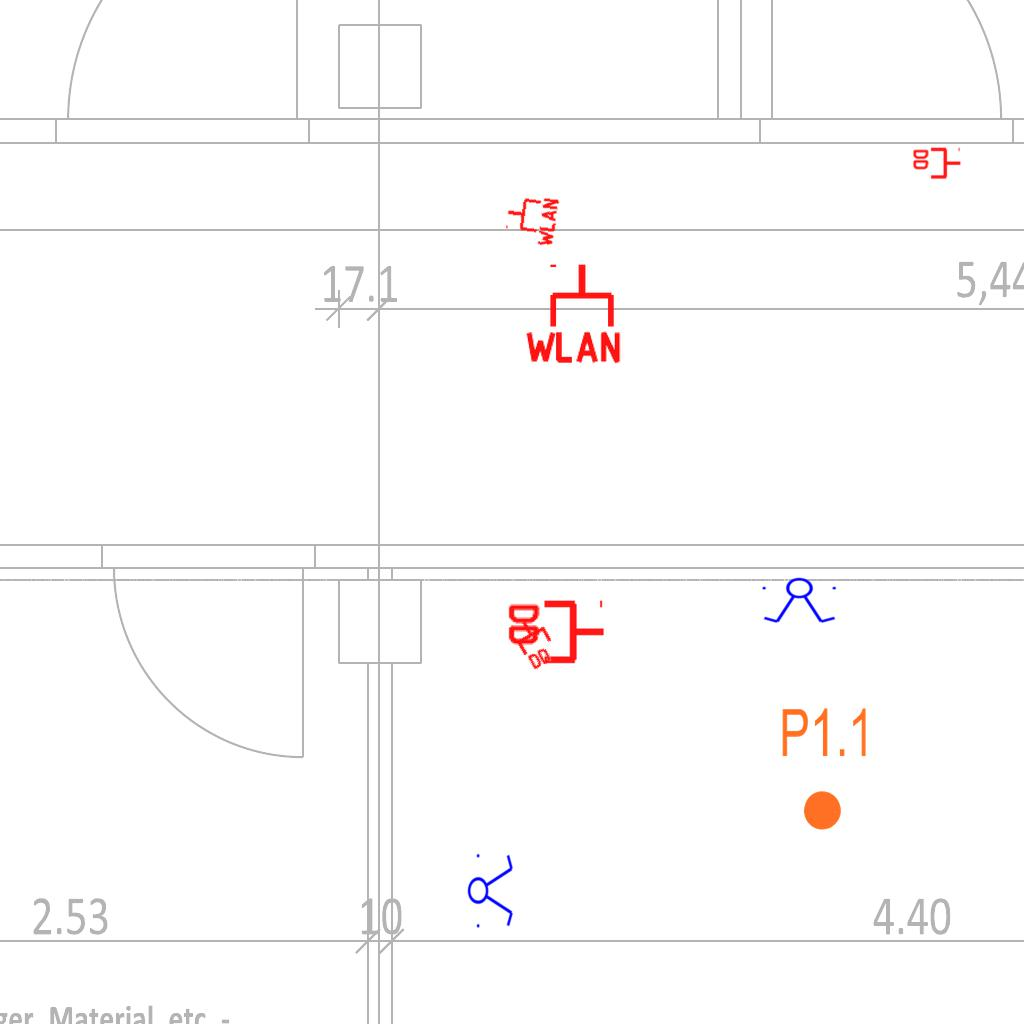Datenanschluss_zweifach: (504, 599, 607, 668), (508, 611, 564, 674), (911, 147, 962, 181)
Downlight_LED_Einbauleuchten_Flur: (779, 705, 872, 833)
Serienschalter: (467, 848, 515, 932), (758, 577, 842, 625)
WLAN: (521, 260, 625, 365), (501, 190, 561, 250)
